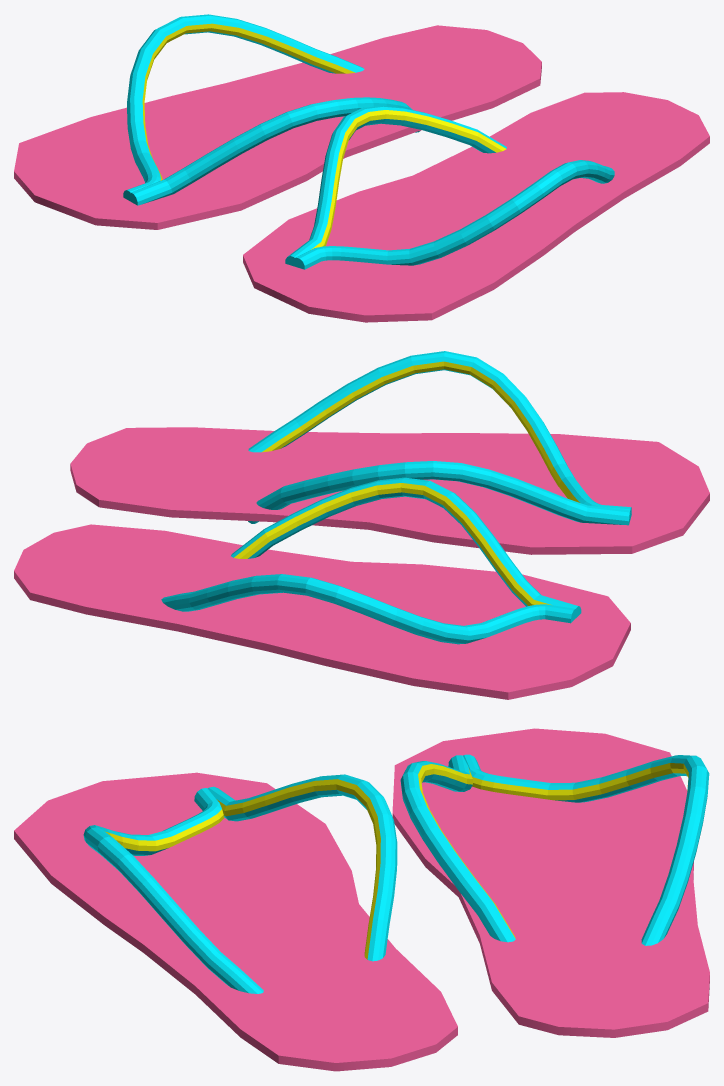
File: flipflipflop.fbx
The picture shows the model from 3 angles, top to bottom: view 1: azimuth 30°, elevation 25°; view 2: azimuth 150°, elevation 25°; view 3: azimuth 270°, elevation 25°; orthographic projection. The views are drawn at different scales.
Visible parts, largest first — view 1: Flip flops; view 2: Flip flops; view 3: Flip flops.
Part boxes in pixels (<box>): Flip flops: <box>14,14,709,322</box>; Flip flops: <box>14,351,709,699</box>; Flip flops: <box>14,728,709,1071</box>.
Size of the model in its own units: 25.79 by 4.08 by 22.67.
